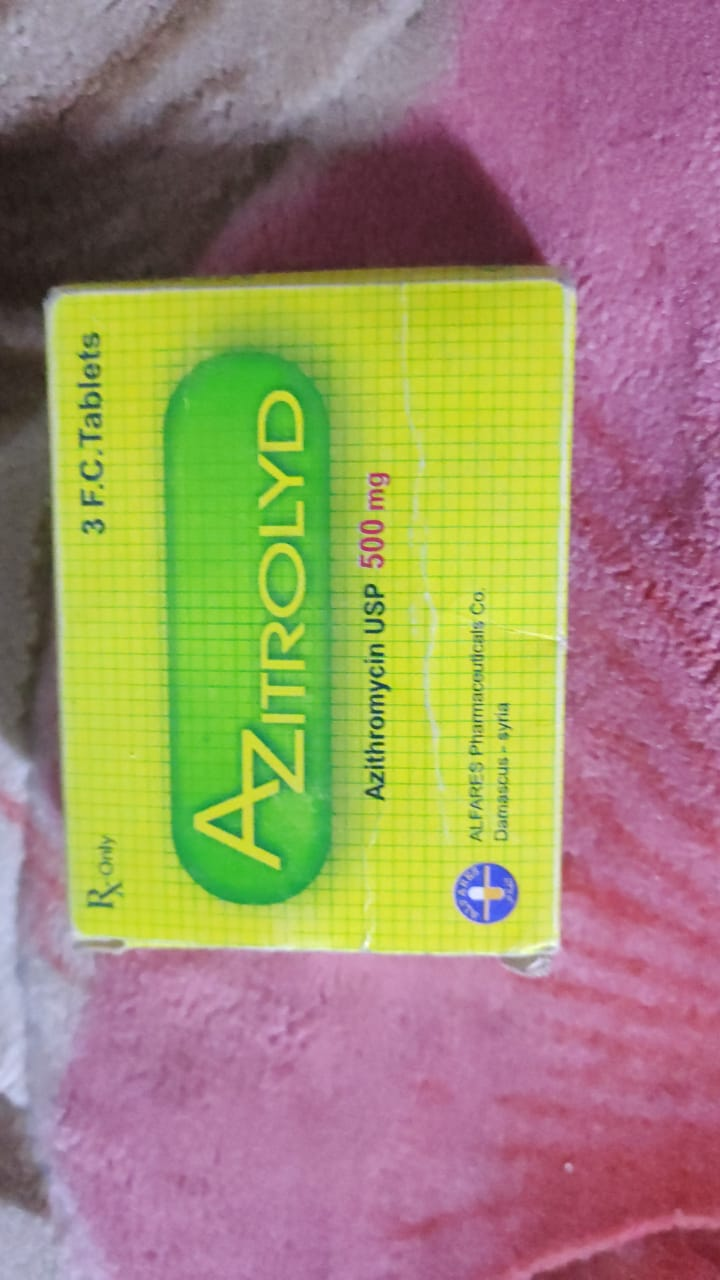Medicine: (30, 263, 577, 983)
